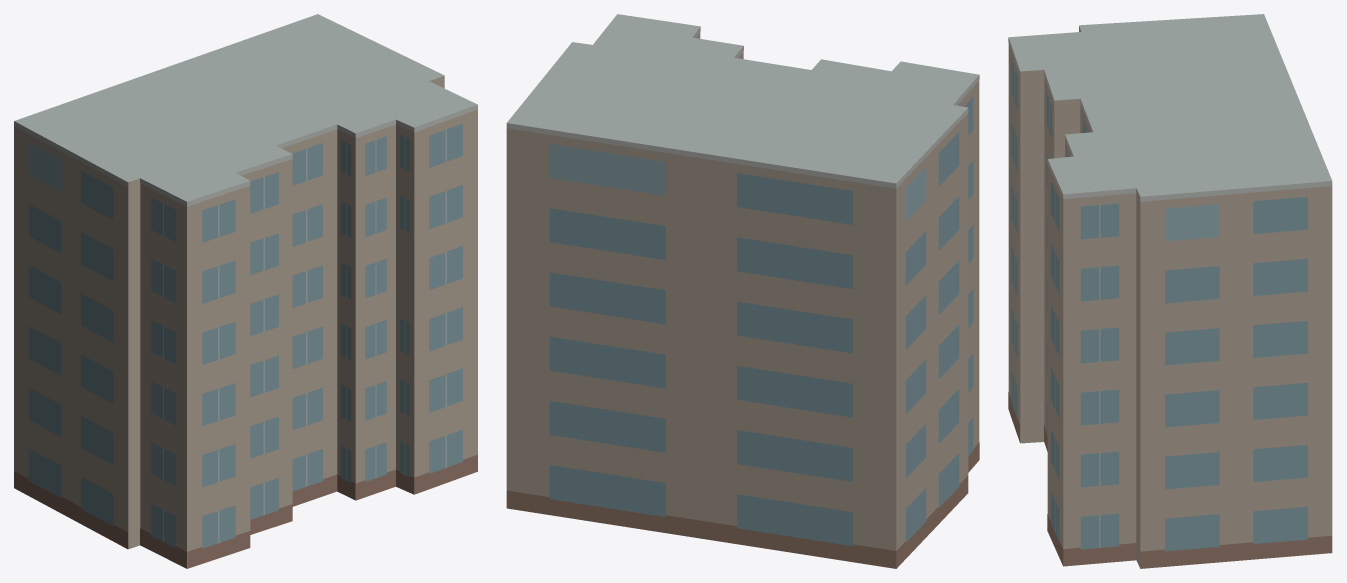
File: survey-upis-32722066.glb
3 views of the same model, side by side, from view 1: azimuth 30°, elevation 25°; view 2: azimuth 150°, elevation 25°; view 3: azimuth 270°, elevation 25° (orthographic). The views are drawn at different scales.
Parts seen in each view (by area): view 1: survey-upis-32722066.tmp; view 2: survey-upis-32722066.tmp; view 3: survey-upis-32722066.tmp.
Part boxes in pixels (left/top/right/bottom): survey-upis-32722066.tmp: left=14, top=14, right=477, bottom=568; survey-upis-32722066.tmp: left=506, top=14, right=979, bottom=568; survey-upis-32722066.tmp: left=1008, top=14, right=1332, bottom=568.
Size of the model in its own units: 19.3 by 18.3 by 14.45.
